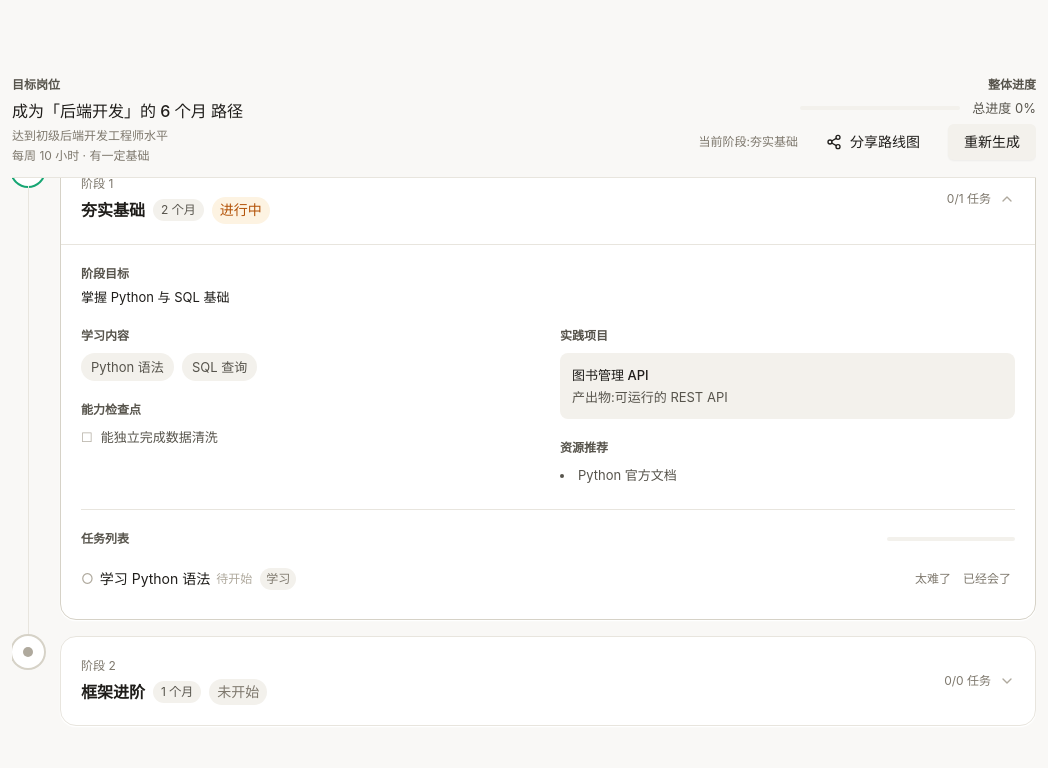
NavigatorHub 状态机 › 任务反馈(3.5):太难了 → stage.regenerate 载荷正确 + 成功 toast + 刷新
Click the button "太难了" at (933, 579), box [911,569,955,589]
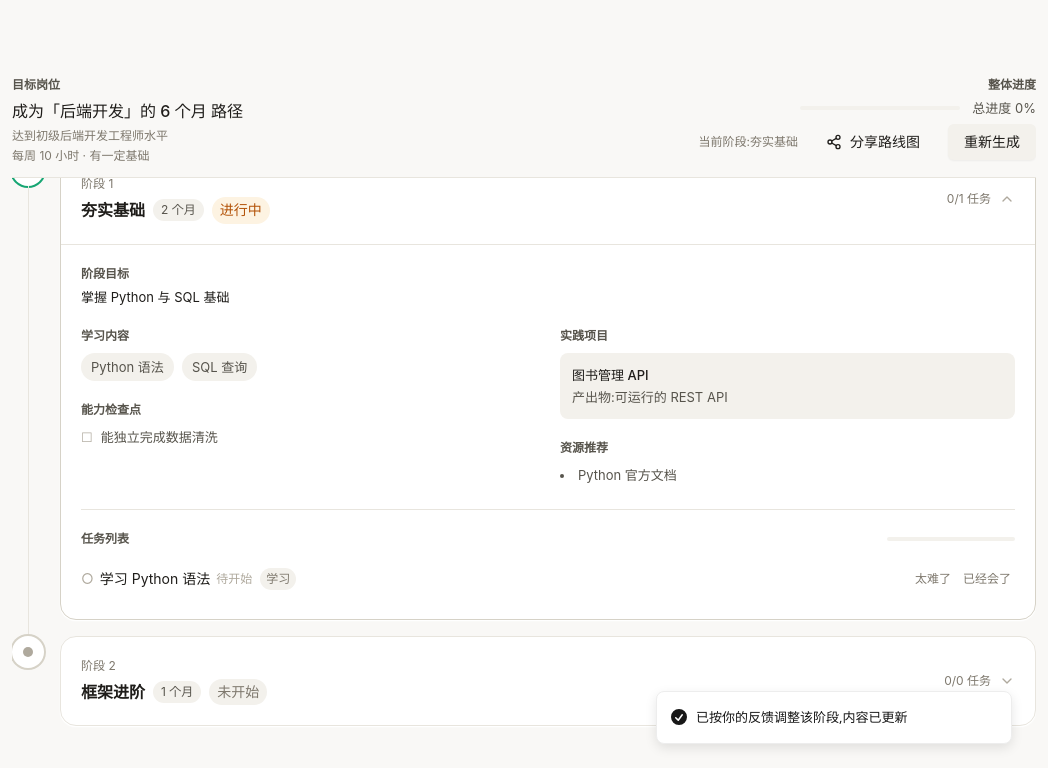
Expected: the text "已按你的反馈调整该阶段,内容已更新" is shown, [696,708,908,727]
